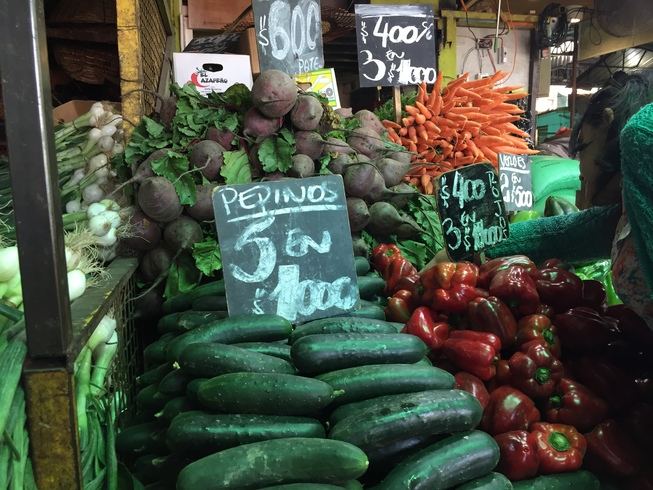precio: (212, 178, 362, 321), (358, 7, 435, 86), (438, 169, 511, 251), (254, 1, 324, 76), (495, 150, 535, 213)
